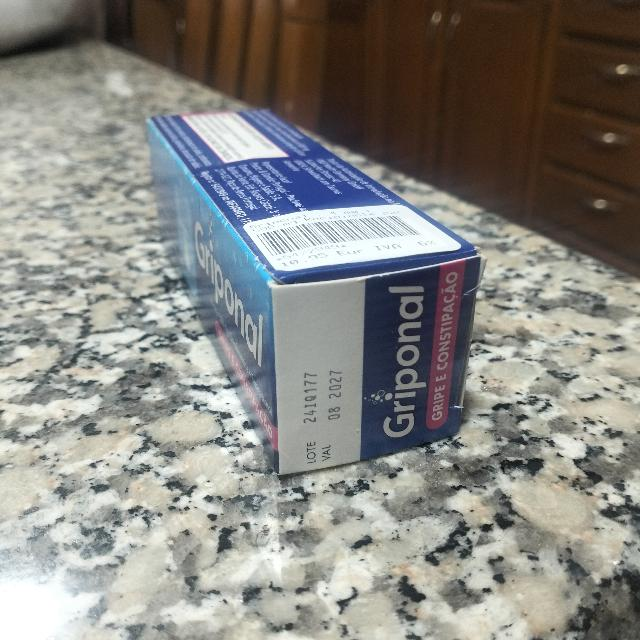caixa: (142, 105, 486, 478)
